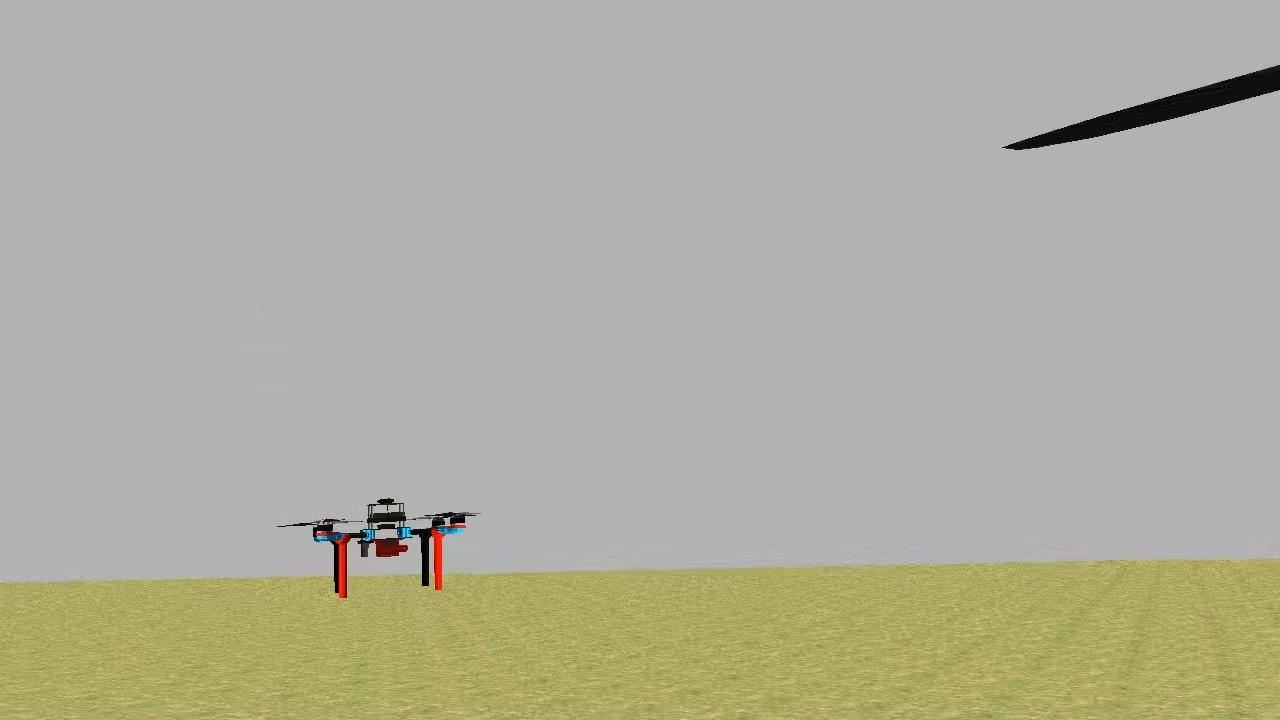UAV: (306, 494, 478, 600)
